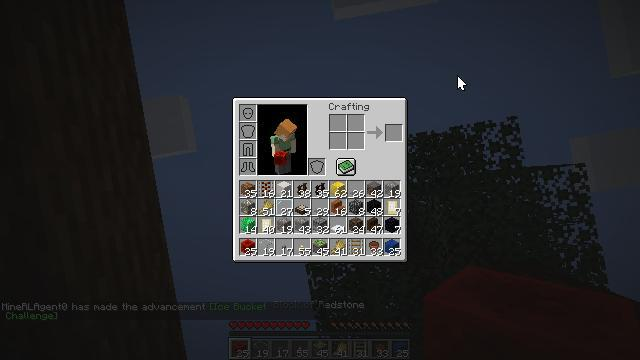cursor: (457, 75, 467, 91)
